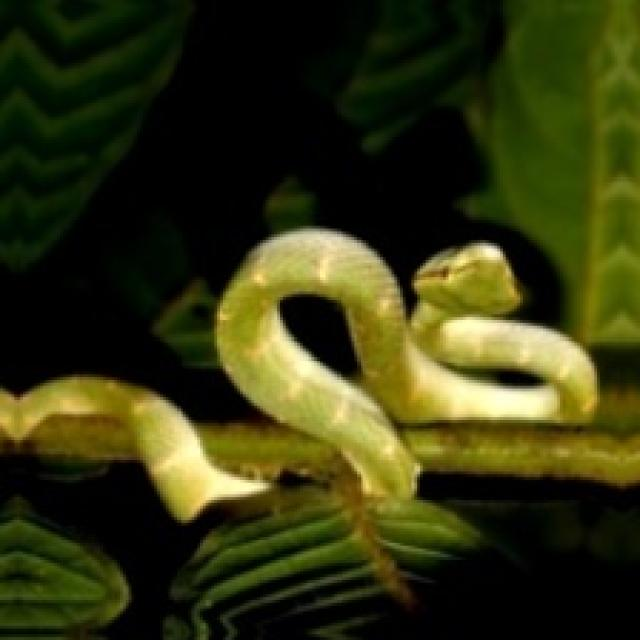north ph temple pitviper: (0, 229, 637, 637)
